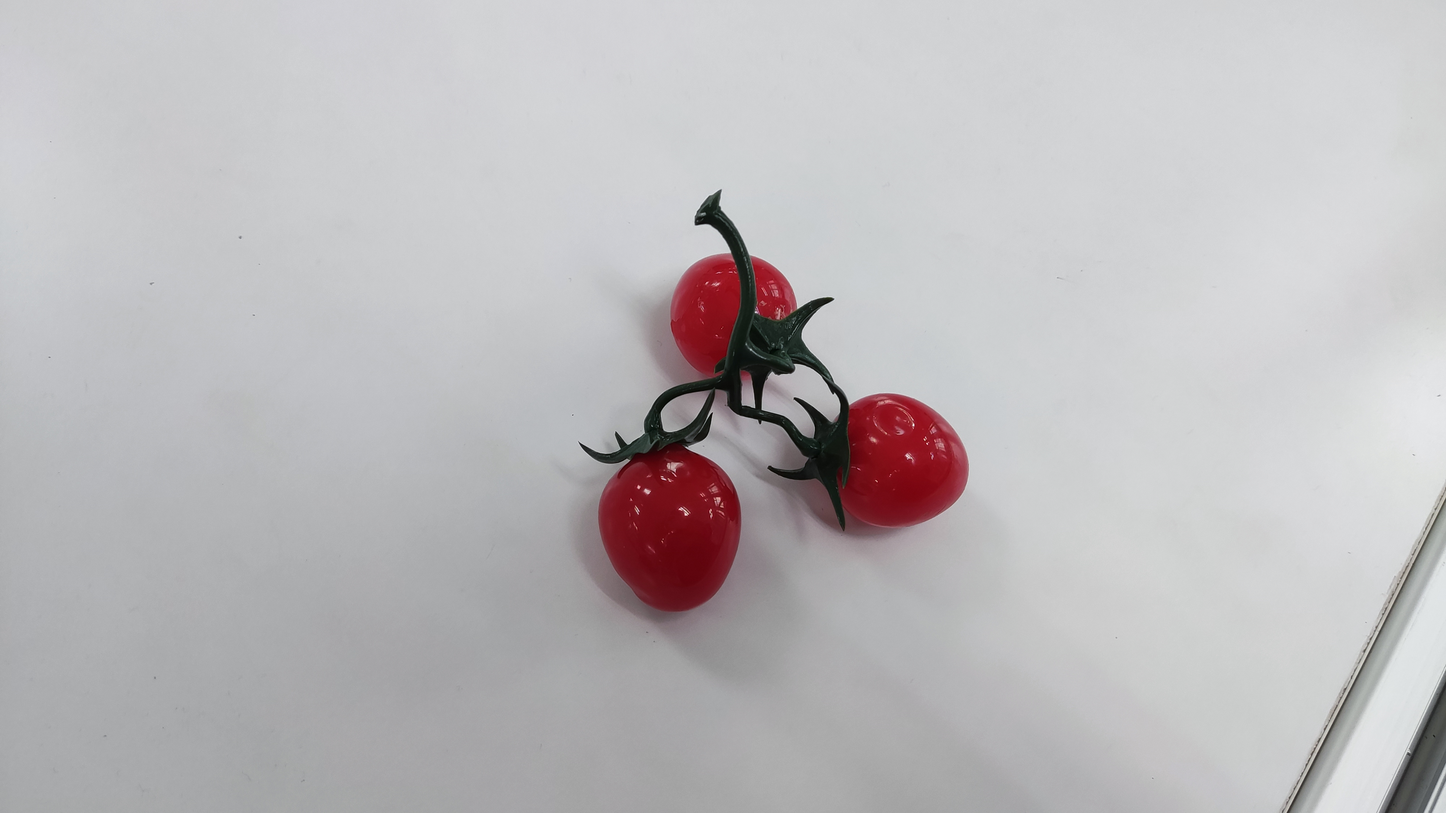peduncle: (712, 212, 756, 334)
strawberry: (598, 443, 741, 611), (840, 393, 970, 526), (671, 252, 741, 375), (752, 255, 797, 318)
